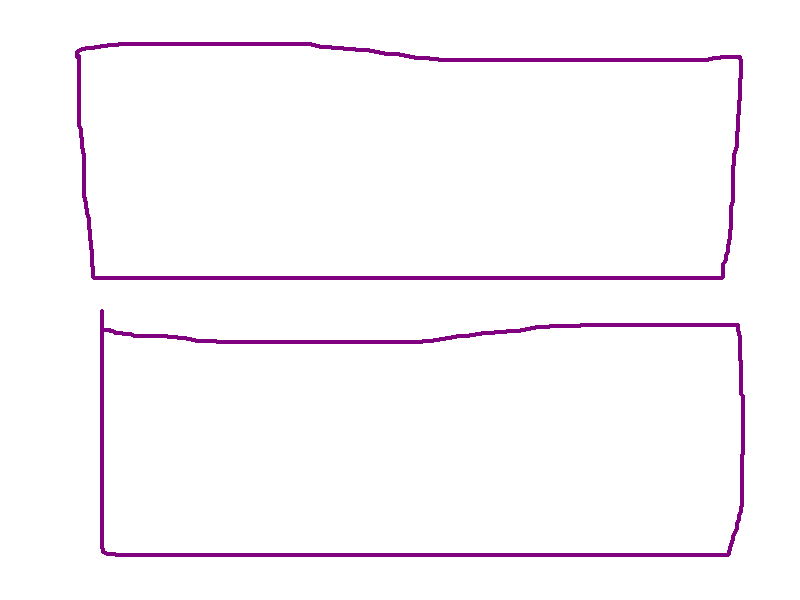rect: (71, 36, 747, 290), (92, 309, 749, 562)
